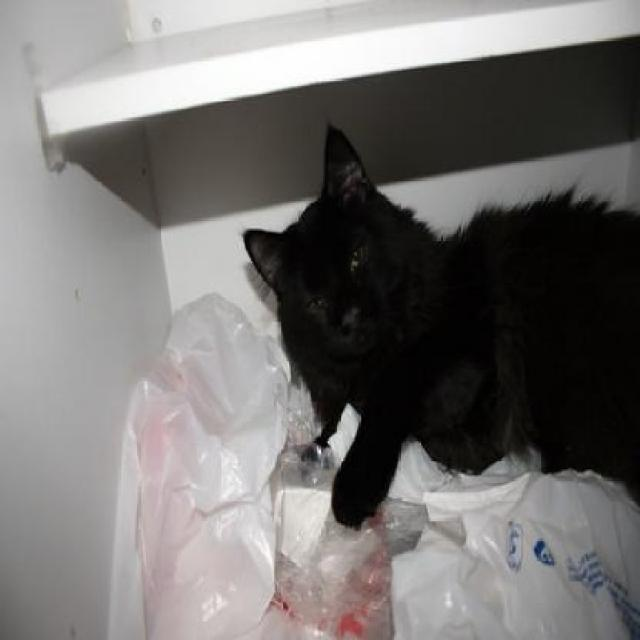plastic bag: (103, 312, 639, 638)
